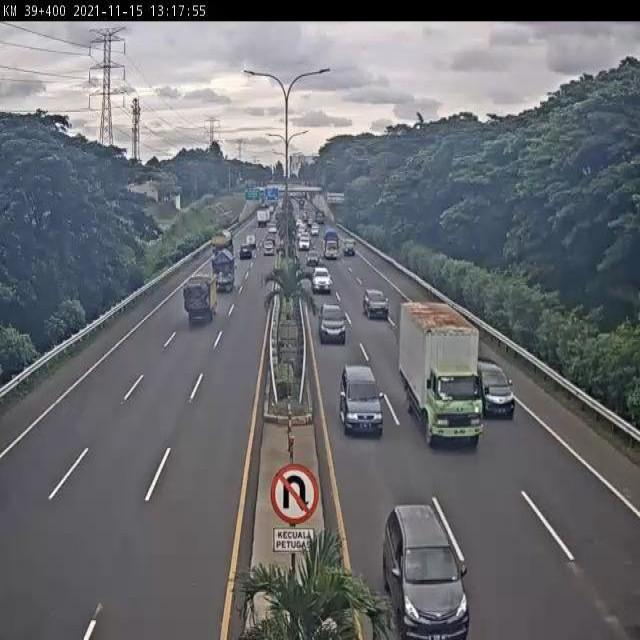car: (385, 502, 472, 640), (341, 363, 385, 444), (476, 360, 517, 425), (318, 300, 349, 344), (361, 284, 391, 323), (311, 263, 334, 293)
truck-m-: (400, 296, 488, 447), (184, 273, 217, 327), (210, 248, 238, 288)
